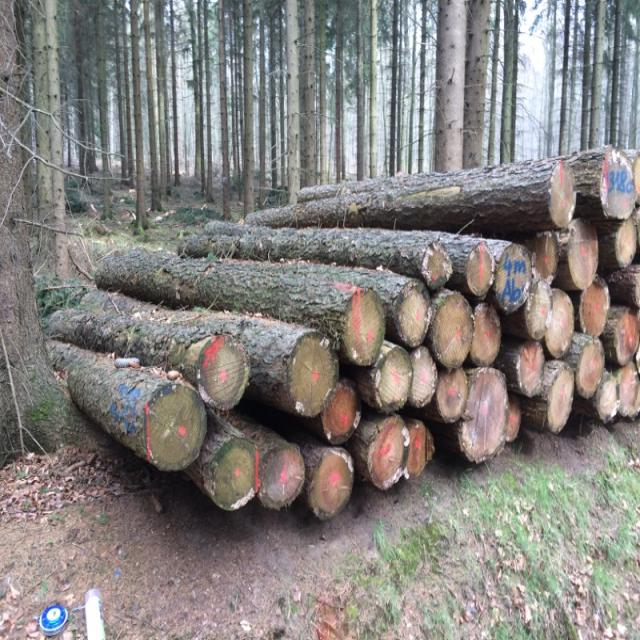wood-log: (132, 386, 205, 474), (460, 366, 510, 463), (286, 330, 338, 416), (200, 439, 257, 512), (196, 334, 248, 410), (342, 288, 387, 367), (428, 294, 474, 371), (257, 442, 307, 512), (309, 447, 356, 519), (365, 416, 412, 488), (526, 285, 577, 351), (494, 242, 532, 312), (372, 344, 411, 411), (602, 153, 640, 221), (322, 382, 362, 446), (564, 219, 598, 292), (397, 285, 433, 350), (545, 361, 576, 433), (406, 418, 438, 479), (472, 305, 502, 369), (514, 340, 547, 397), (550, 161, 578, 228), (607, 312, 640, 368), (434, 367, 468, 421), (465, 243, 496, 300), (581, 283, 612, 338), (594, 372, 622, 432), (574, 339, 602, 396), (412, 344, 436, 409), (422, 245, 452, 293), (616, 220, 638, 268), (506, 397, 521, 444), (631, 376, 640, 421), (632, 269, 640, 310), (633, 156, 640, 196)
